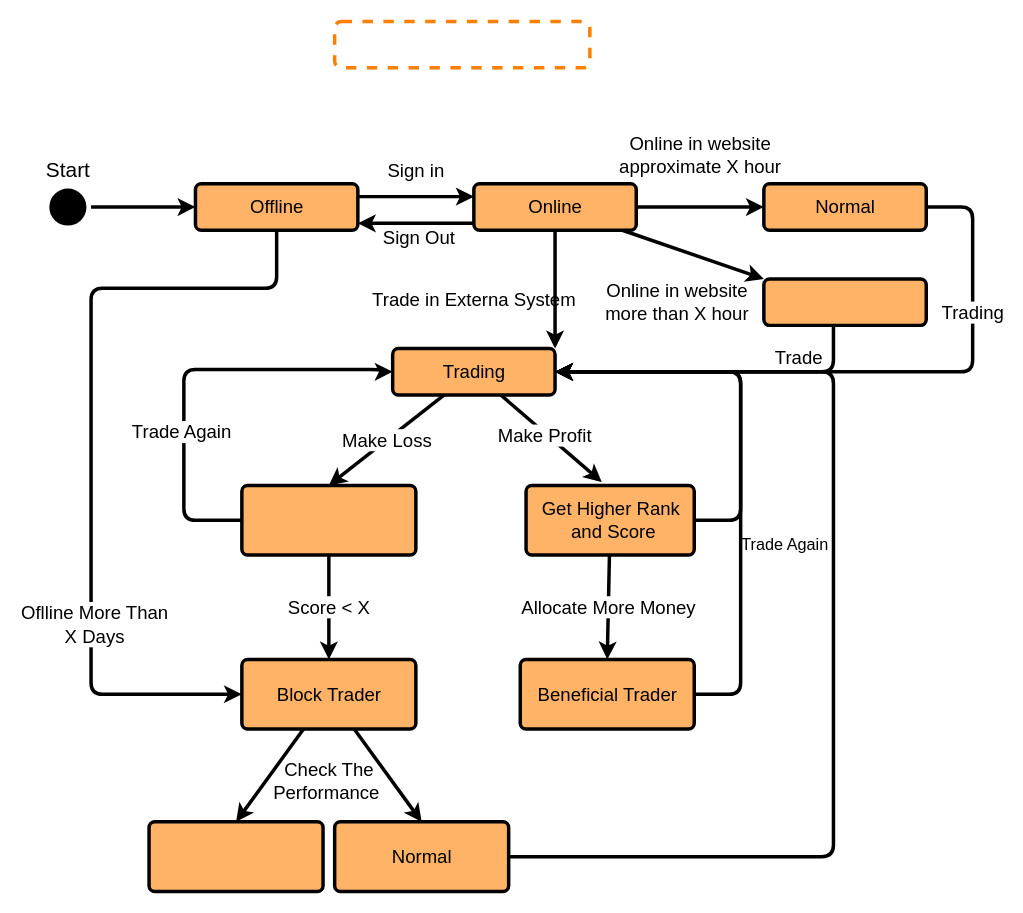
This 1023x913 diagram has some shape labels left out. Here are the shapes that lost their labels. From the top down, the centre of each, then its label:
At point (461, 44): "Trader State Diagram".
At point (844, 302): "Active".
At point (328, 519): "Get LowerRank and Score".
At point (235, 856): "Remove Trader".
